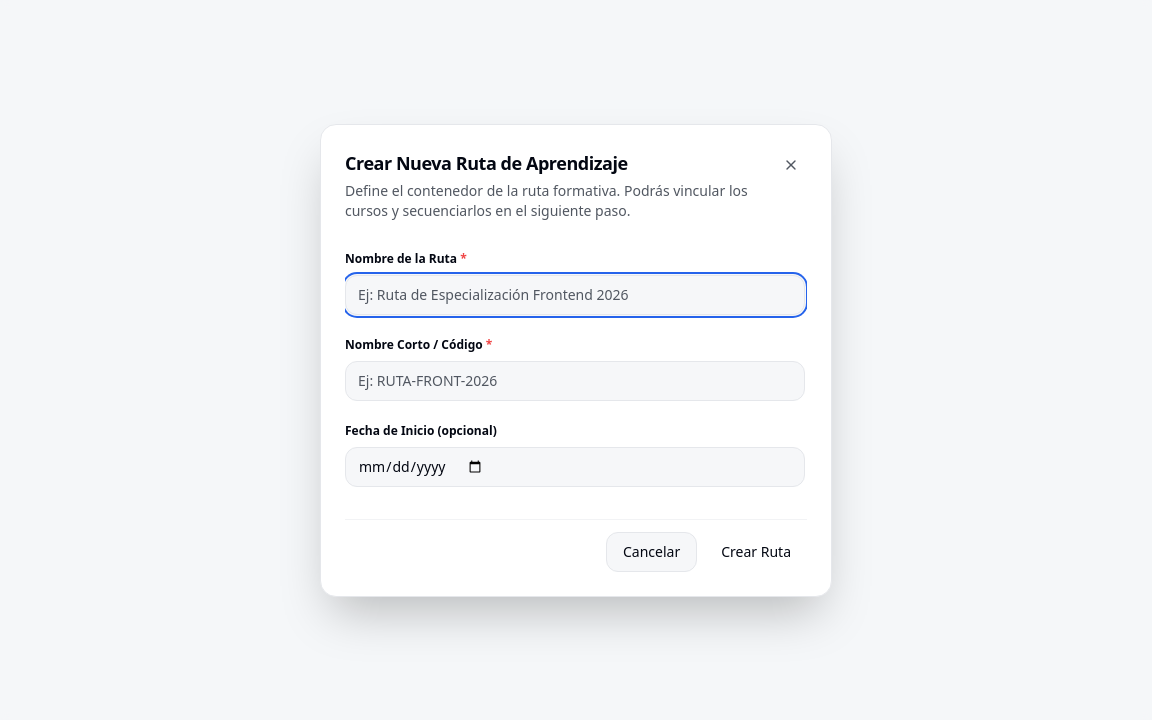
LearningPathCreateModal › validates required fields before submitting
This screenshot has width=1152, height=720.
Step 1. Click the button "Crear Ruta" → (756,552), box [705, 532, 807, 572]
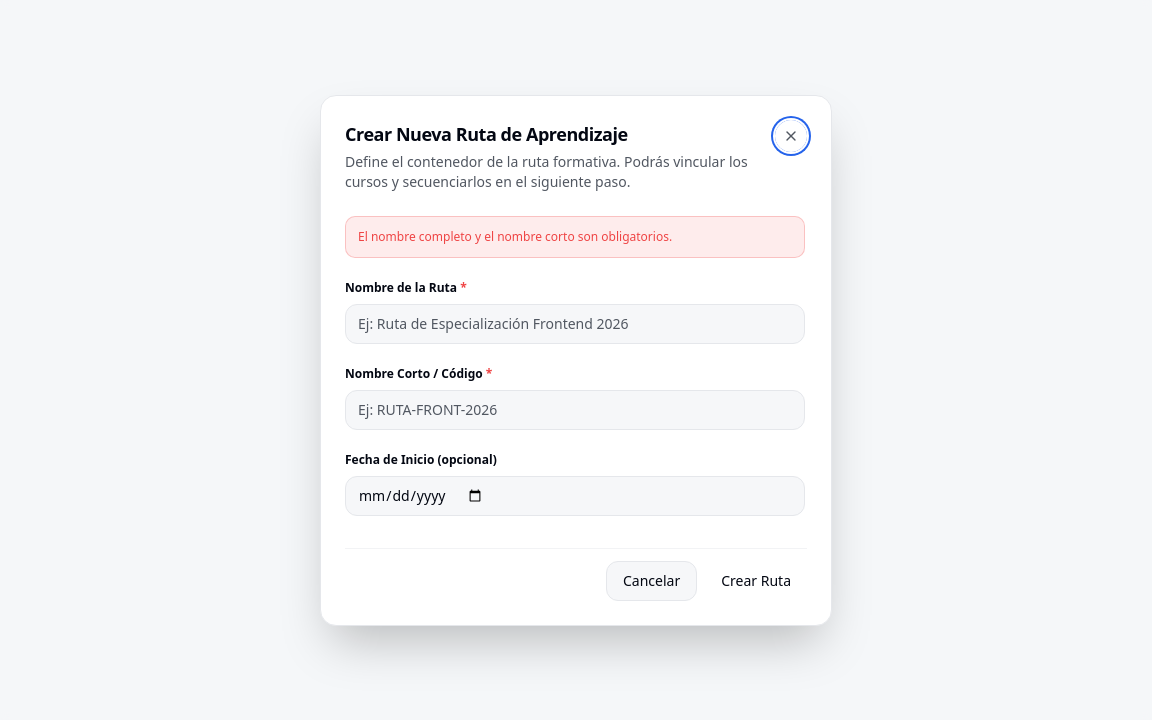
expect the text "El nombre completo y el nombre corto son obligatorios." is shown: met, box [345, 216, 805, 258]
